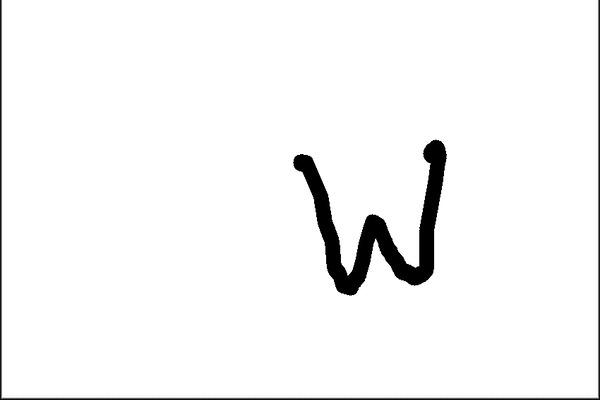w: (276, 127, 458, 304)
